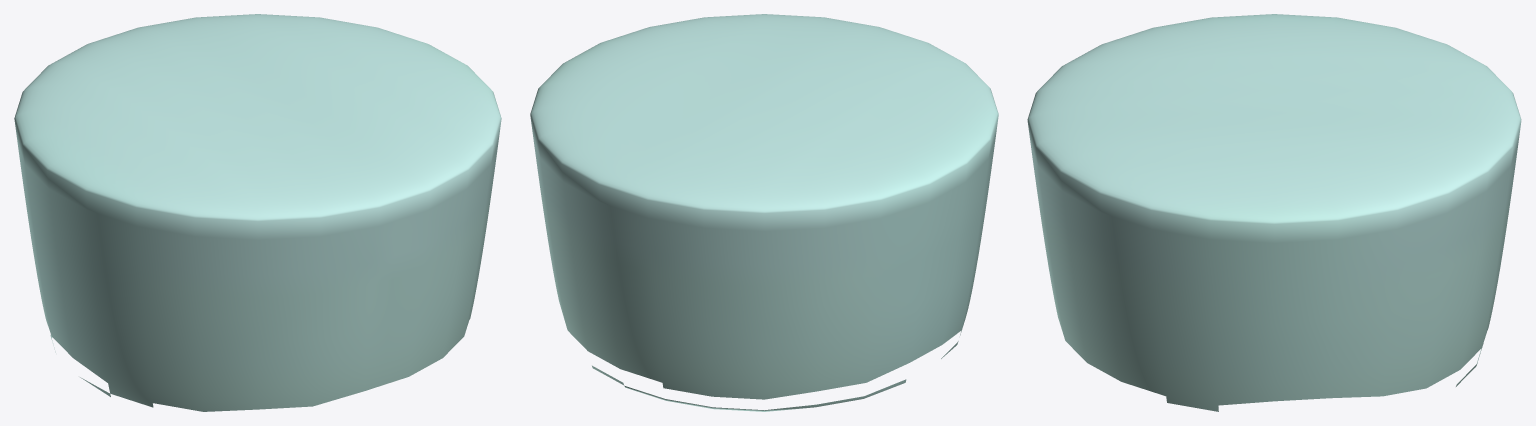
Rendered from original-4-top.obj.
3 views of the same model, side by side, from view 1: azimuth 30°, elevation 25°; view 2: azimuth 150°, elevation 25°; view 3: azimuth 270°, elevation 25° (orthographic). The views are drawn at different scales.
Visible parts, largest first — view 1: #ID26; view 2: #ID26; view 3: #ID26.
Part boxes in pixels (x1,y1,x2,y2): #ID26: (14, 14, 501, 411); #ID26: (530, 14, 998, 411); #ID26: (1027, 14, 1521, 411).
Size of the model in its own units: 0.2599 by 0.1409 by 0.2599.
